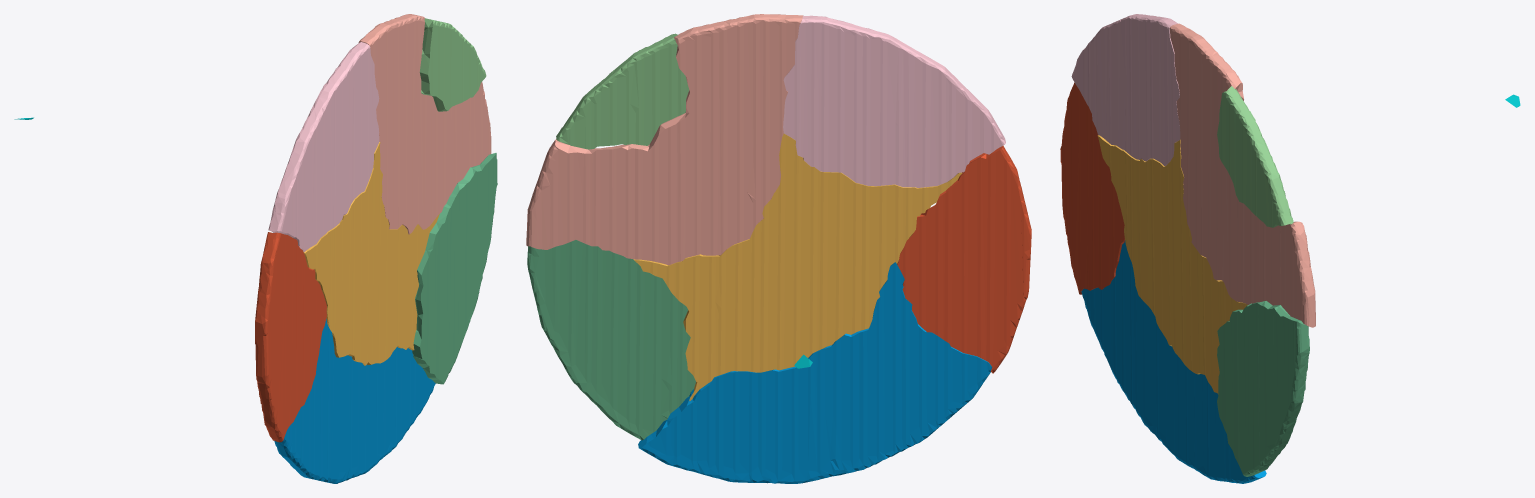
3 views of the same model, side by side, from view 1: azimuth 30°, elevation 25°; view 2: azimuth 150°, elevation 25°; view 3: azimuth 270°, elevation 25° (orthographic). The views are drawn at different scales.
Parts seen in each view (by area): view 1: Object_piece_7.004, Object_piece_7, Object_piece_7.003, Object_piece_7.005, Object_piece_7.002, Object_piece_7.001, Object_piece_7.006; view 2: Object_piece_7.004, Object_piece_7.003, Object_piece_7, Object_piece_7.005, Object_piece_7.002, Object_piece_7.001, Object_piece_7.006; view 3: Object_piece_7.004, Object_piece_7, Object_piece_7.003, Object_piece_7.002, Object_piece_7.005, Object_piece_7.001, Object_piece_7.006.
Part boxes in pixels (x1=…): Object_piece_7.004: x1=358, y1=14, x2=491, y2=234; Object_piece_7: x1=303, y1=142, x2=439, y2=365; Object_piece_7.003: x1=274, y1=319, x2=435, y2=483; Object_piece_7.005: x1=268, y1=42, x2=379, y2=252; Object_piece_7.002: x1=412, y1=153, x2=497, y2=384; Object_piece_7.001: x1=255, y1=232, x2=326, y2=442; Object_piece_7.006: x1=419, y1=18, x2=486, y2=111; Object_piece_7.004: x1=526, y1=14, x2=803, y2=265; Object_piece_7.003: x1=638, y1=262, x2=992, y2=483; Object_piece_7: x1=633, y1=133, x2=962, y2=400; Object_piece_7.005: x1=783, y1=15, x2=1005, y2=187; Object_piece_7.002: x1=527, y1=240, x2=695, y2=440; Object_piece_7.001: x1=897, y1=145, x2=1031, y2=373; Object_piece_7.006: x1=556, y1=33, x2=689, y2=149; Object_piece_7.004: x1=1169, y1=23, x2=1315, y2=327; Object_piece_7: x1=1097, y1=135, x2=1247, y2=394; Object_piece_7.003: x1=1081, y1=240, x2=1266, y2=483; Object_piece_7.002: x1=1217, y1=301, x2=1309, y2=476; Object_piece_7.005: x1=1071, y1=14, x2=1180, y2=166; Object_piece_7.001: x1=1060, y1=82, x2=1124, y2=294; Object_piece_7.006: x1=1217, y1=86, x2=1293, y2=227.
Bounding box in the file's own units: 0.8959 × 0.9972 × 0.9537.
